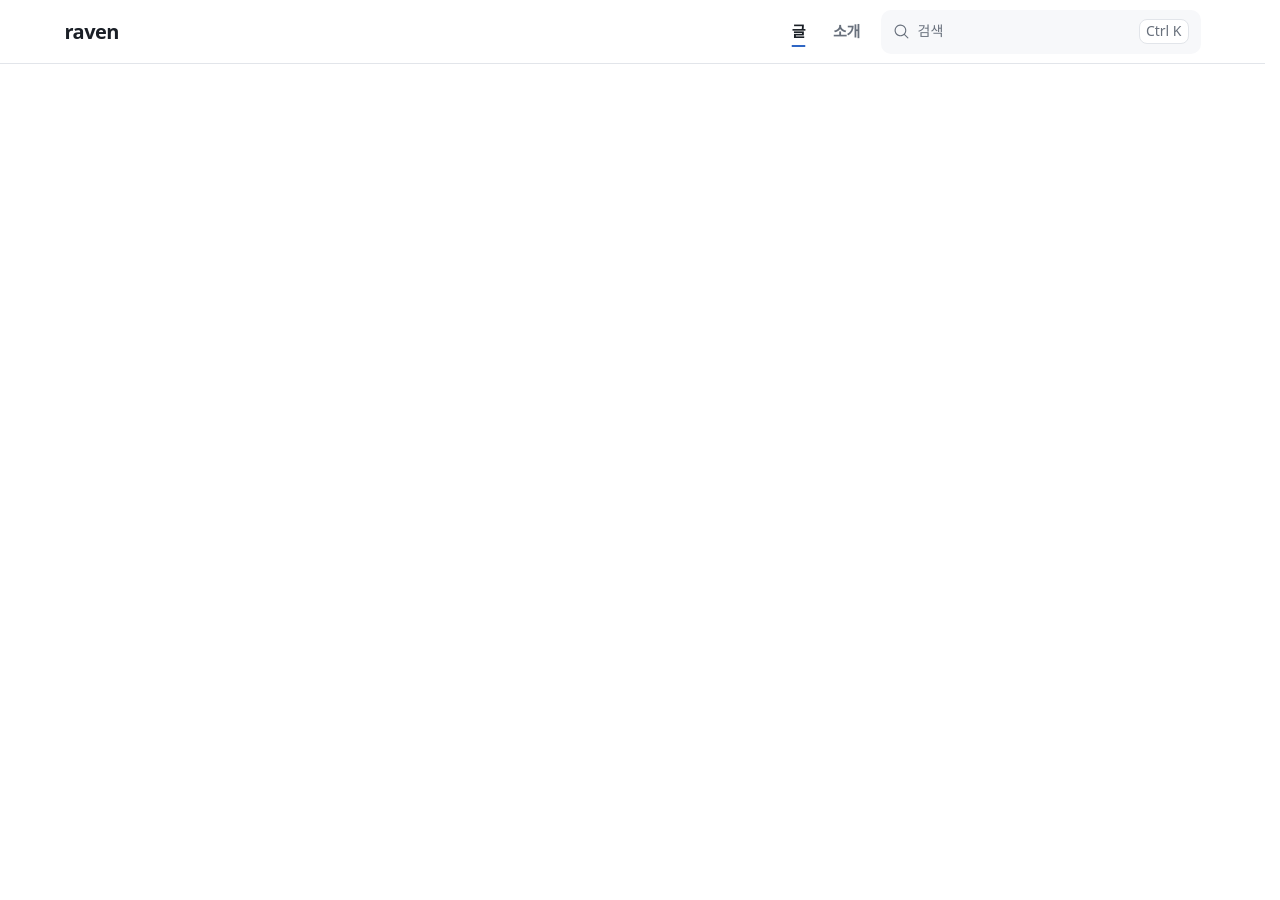
SiteHeader › listbox 결과는 비포커스 option이고 빈 검색 결과를 announce한다
Click the button "검색 Ctrl K": (1164,32) x1=880 y1=10 x2=1200 y2=54
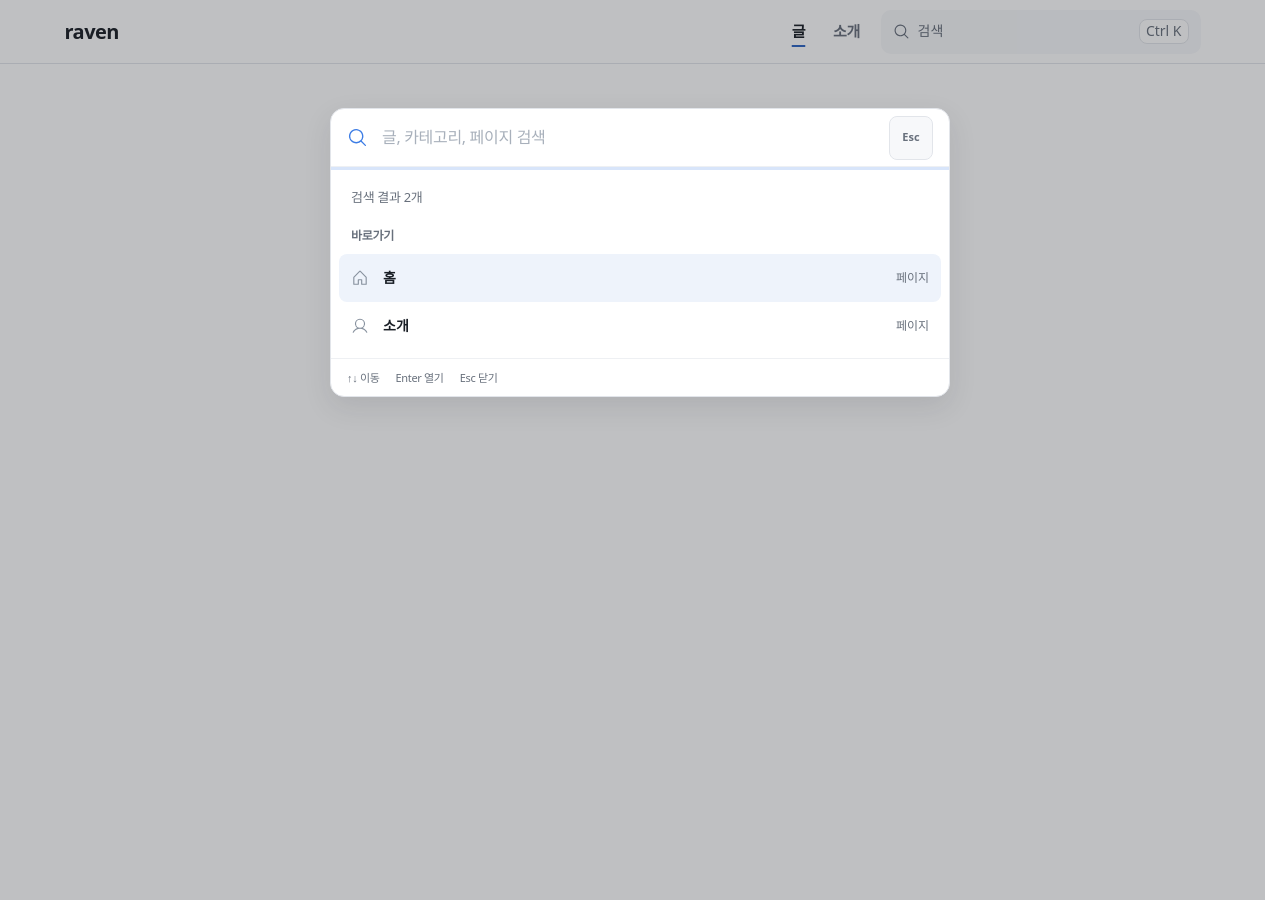
Now the number of options is 2, box x1=339 y1=254 x2=941 y2=302; x1=339 y1=302 x2=941 y2=350
In the dropdown: (628,138) x1=380 y1=124 x2=877 y2=151, type "없는검색어"
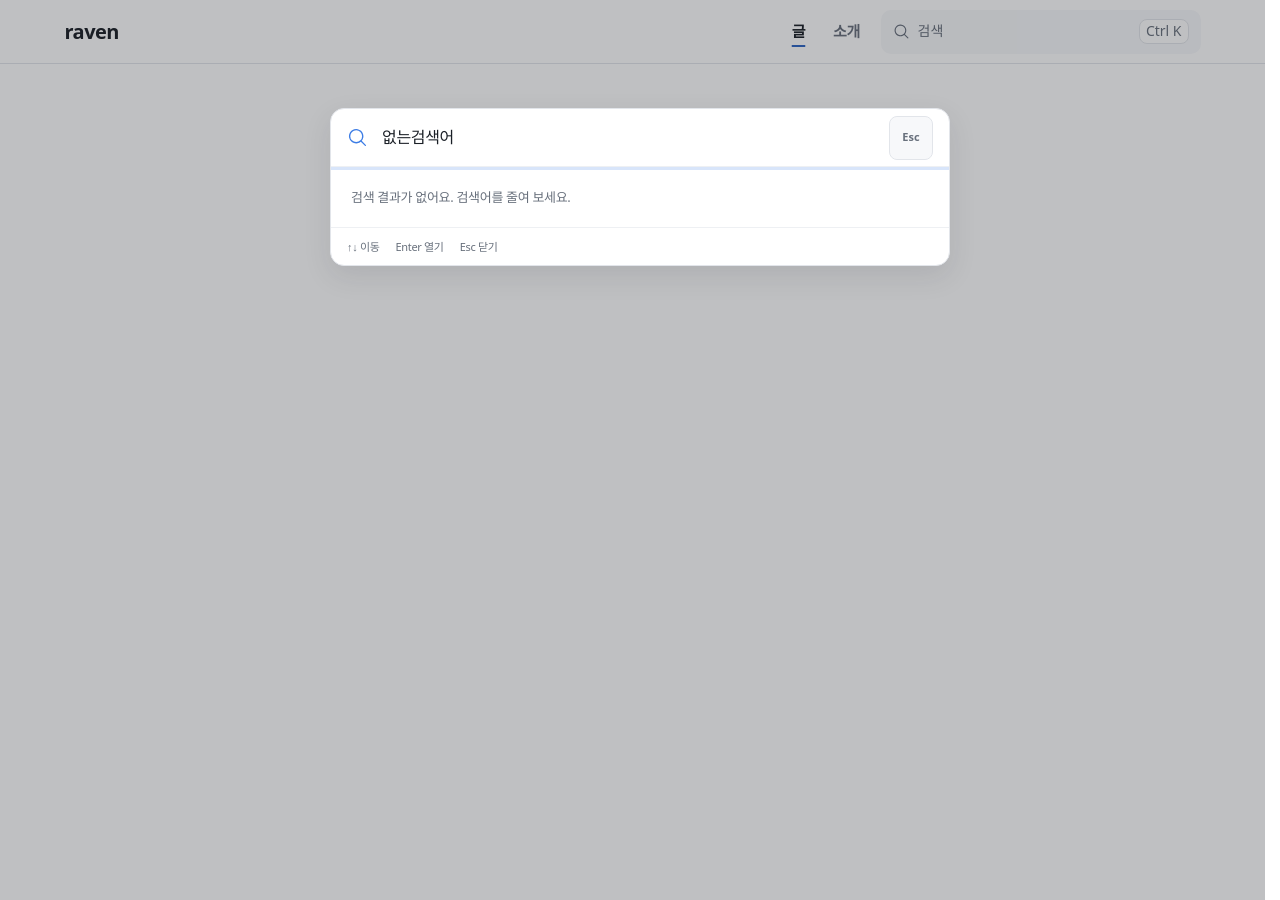
Now the message reads "검색 결과가 없어요. 검색어를 줄여 보세요.", box x1=351 y1=188 x2=570 y2=206
